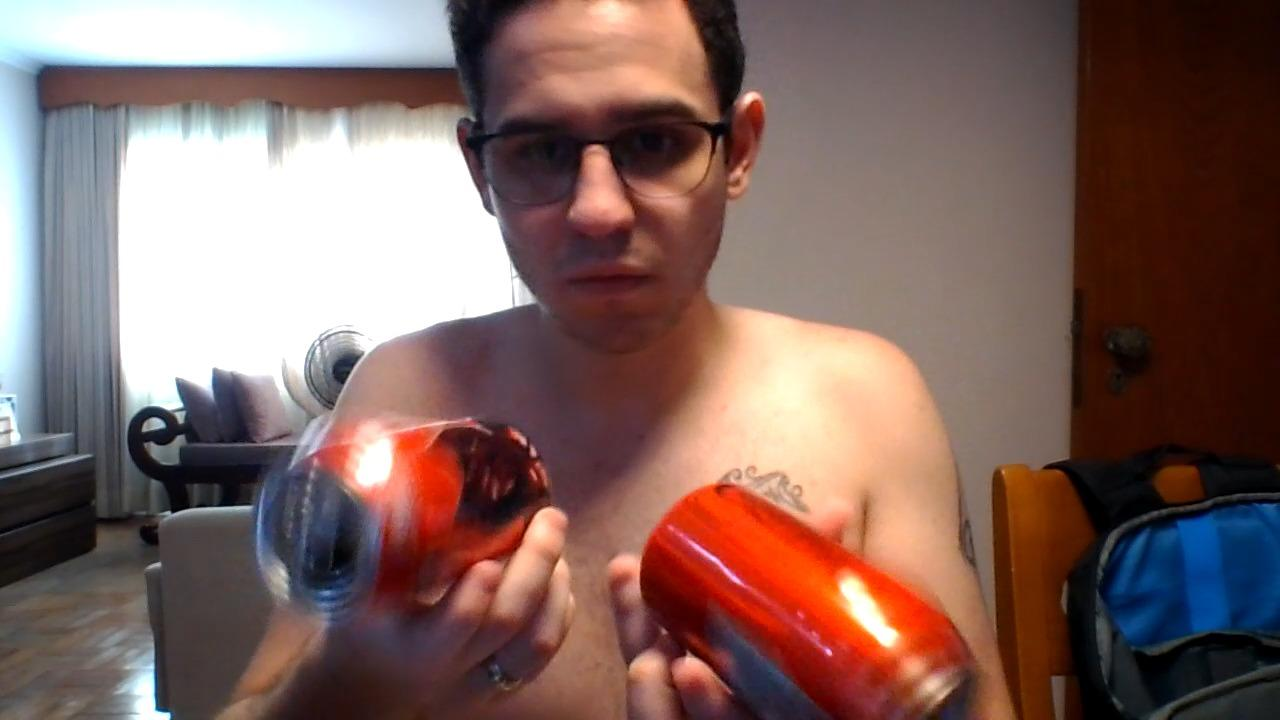coke: (642, 480, 977, 720), (256, 415, 558, 622)
